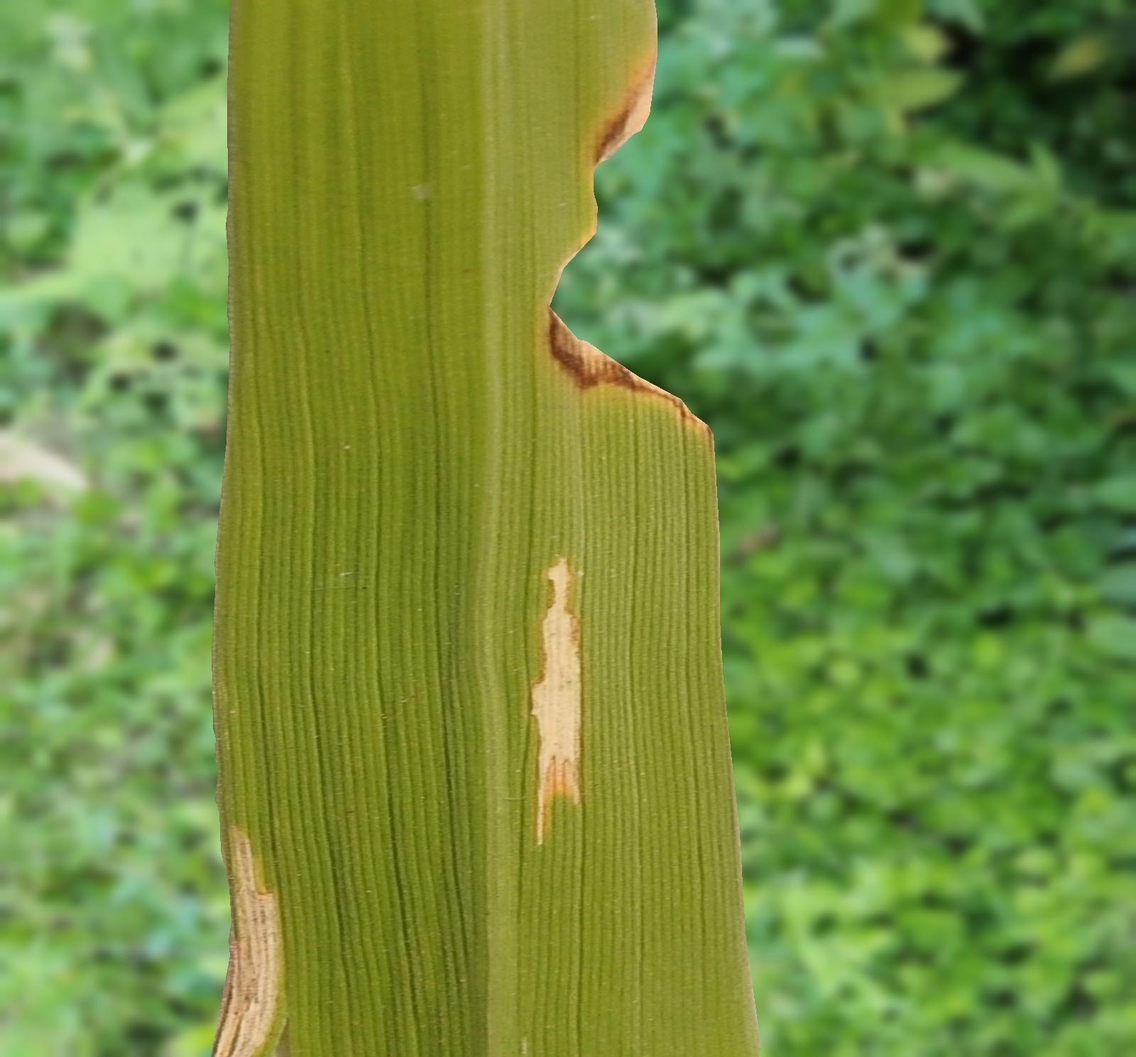BLS: (211, 826, 283, 1056), (531, 556, 581, 845)
LEAF: (211, 0, 760, 1056)
